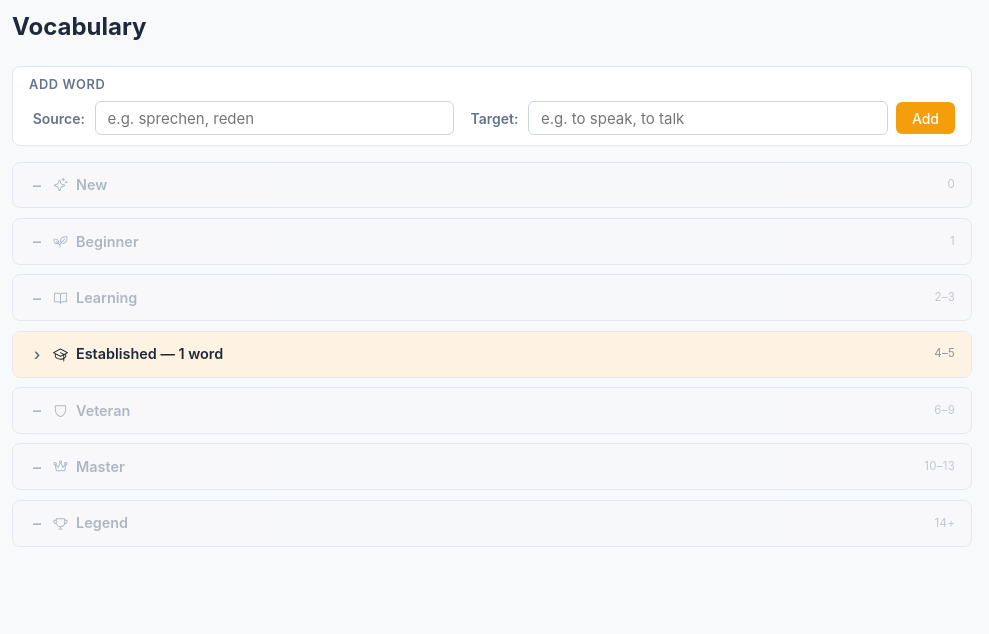
Test: VocabListScreen › shows a "Due in" column header for time-based buckets (≥ 4)
The width and height of the screenshot is (989, 634).
Click the heading "Established — 1 word 4–5".
click(116, 354)  # box [13,332,971,376]
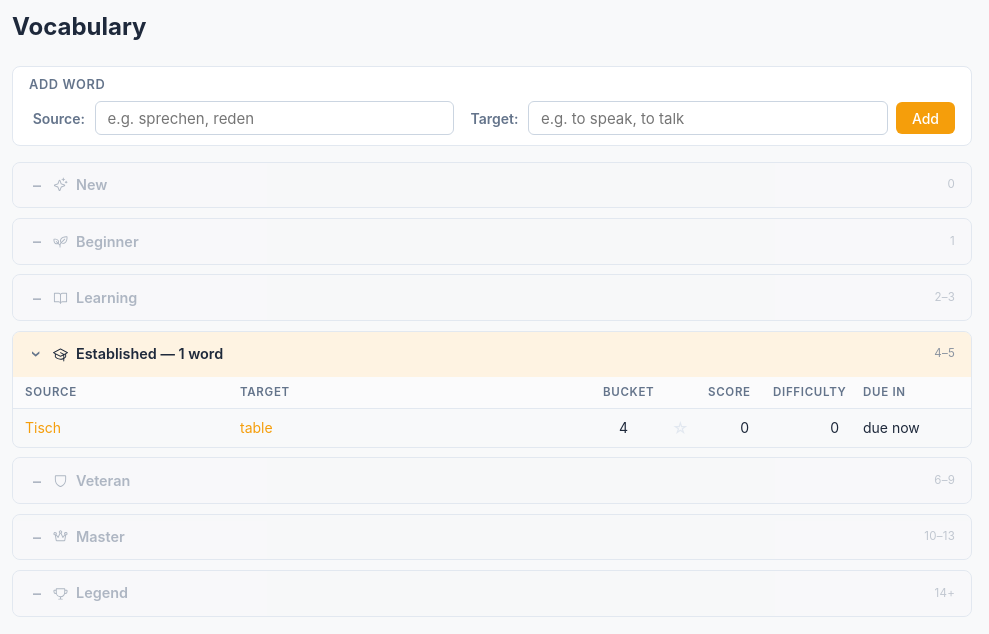
Expected: the column heading "Due in" is shown, [851,376,971,409]
